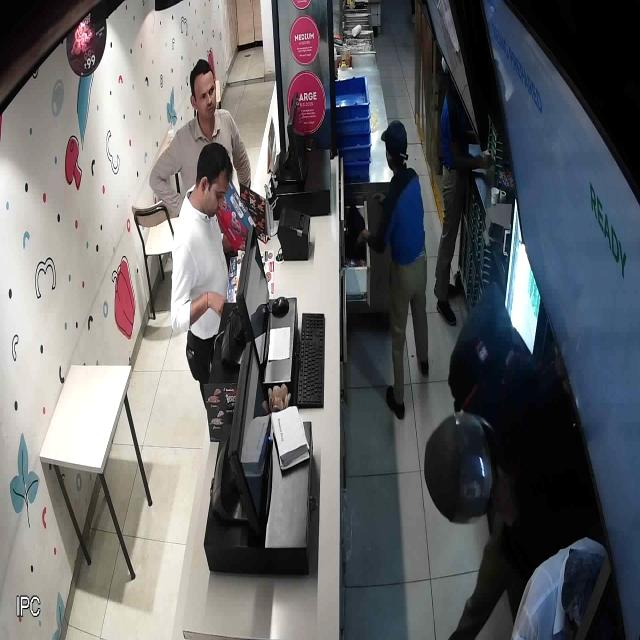helmet: (423, 409, 502, 528)
no_helmet: (194, 143, 234, 219), (190, 57, 215, 121)
